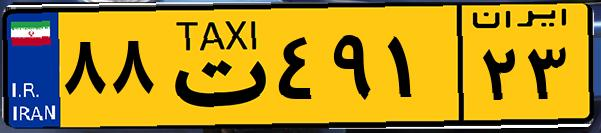1: (385, 28, 445, 110)
2: (475, 38, 525, 113)
3: (525, 38, 570, 115)
4: (270, 28, 330, 110)
8: (57, 26, 110, 100), (110, 28, 158, 98)
9: (330, 28, 385, 110)
ت: (158, 12, 270, 120)
